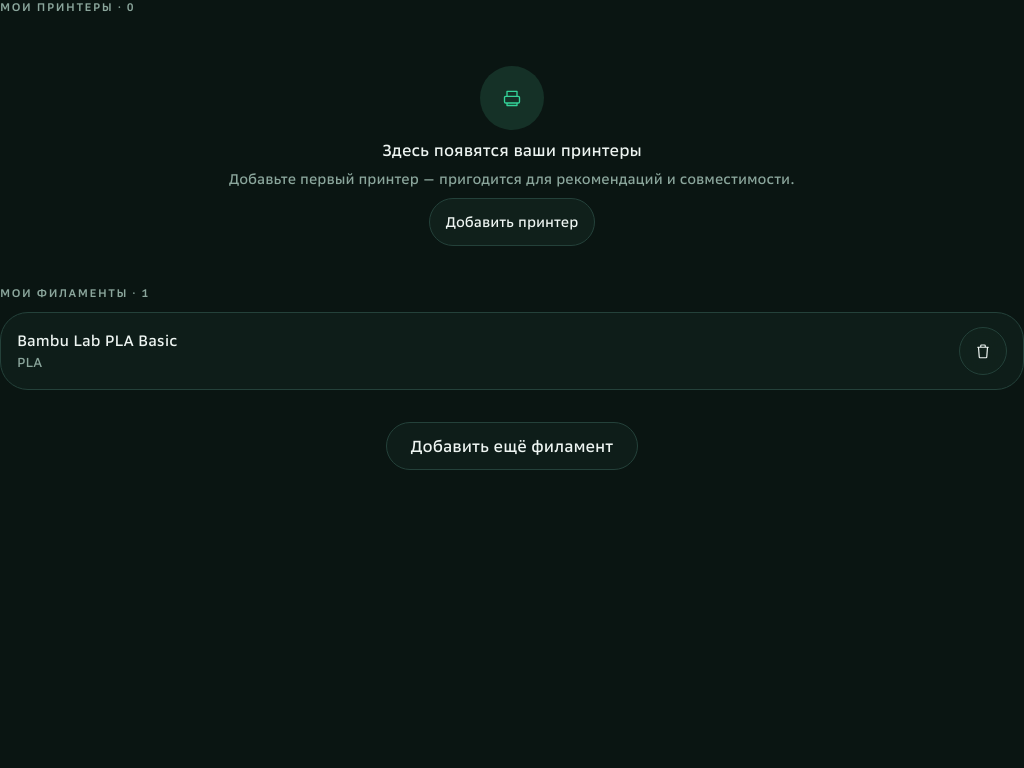
it: MyCatalogsSection › удаление филамента — подтверждение → DELETE → строка исчезает
Check: the text "Bambu Lab PLA Basic" is shown, box [17, 331, 177, 350]
Click the button named "Убрать Bambu Lab PLA Basic" at (983, 351), box [959, 327, 1007, 375]
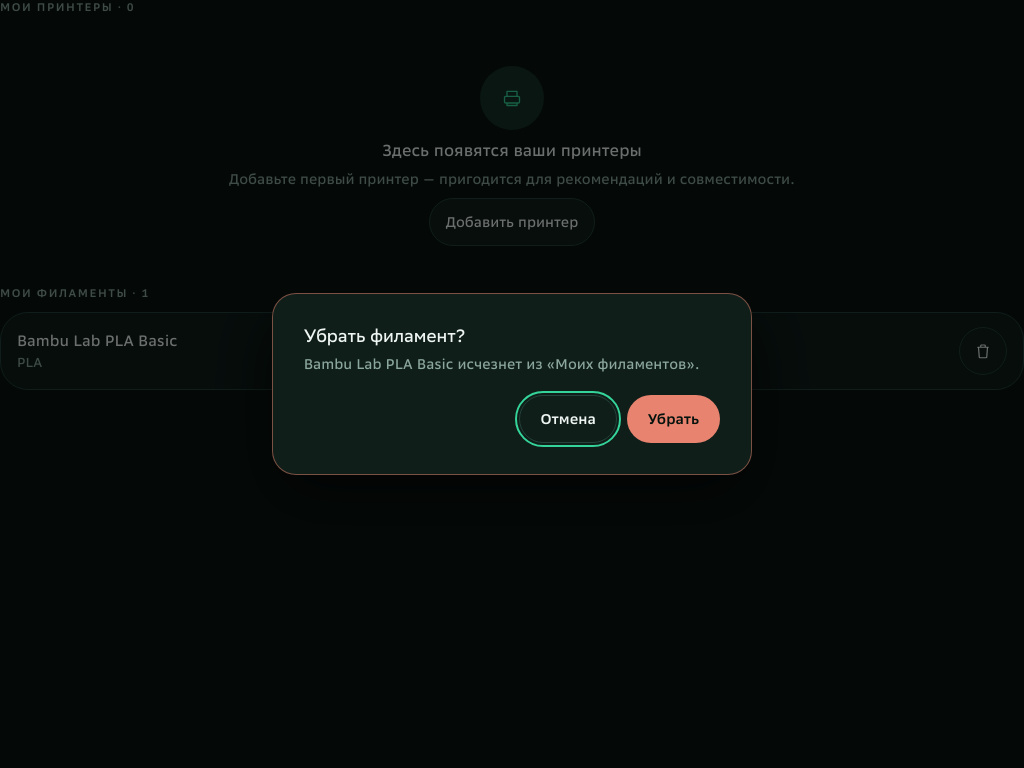
Check: the text "Убрать филамент?" is shown, box [304, 325, 465, 346]
Click the button "Убрать" at (674, 419), box [627, 395, 720, 443]
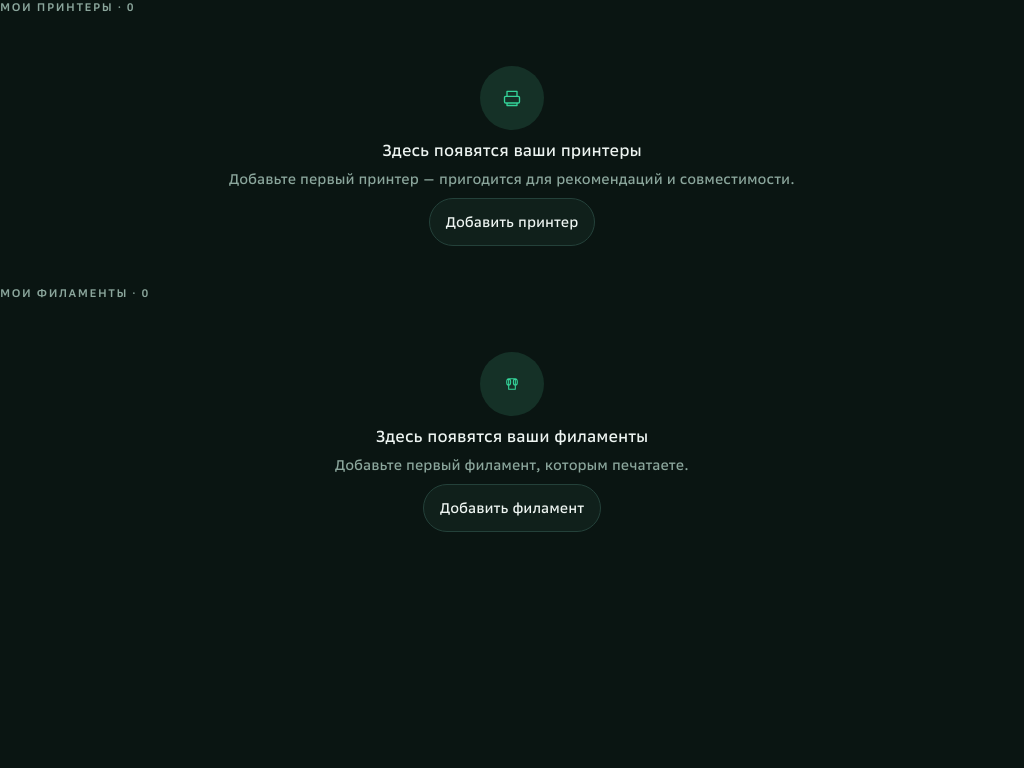
Check: the button "Bambu Lab PLA Basic" is gone
